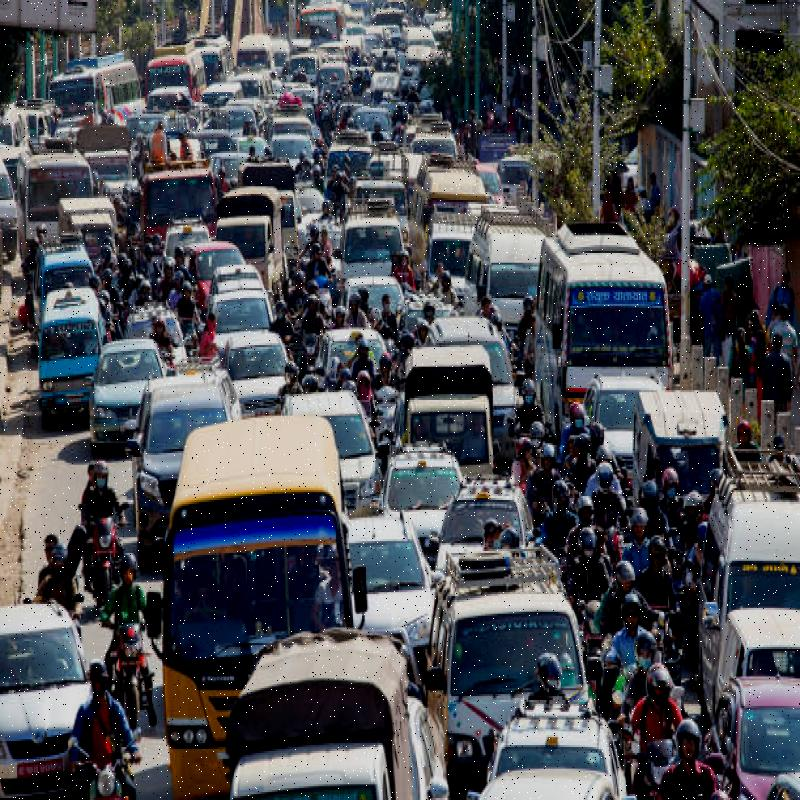bus: (539, 240, 673, 414)
car: (437, 598, 588, 752), (282, 367, 404, 490), (143, 383, 255, 516), (634, 397, 723, 477), (224, 334, 297, 414), (338, 214, 409, 276), (202, 273, 262, 342)
